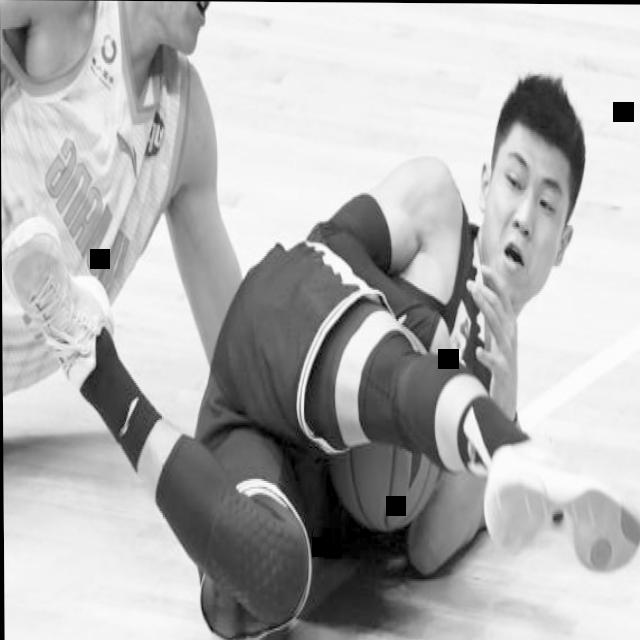Fall-Detected: (19, 0, 611, 640), (0, 0, 251, 402)
